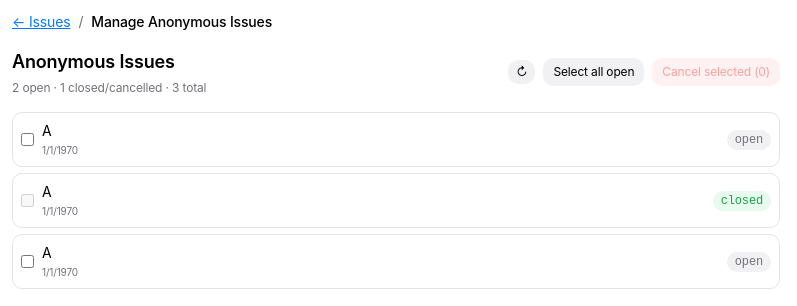
Scenario: AnonymousManagementPanel › Select all open ticks all non-closed checkboxes
Click the button "Select all open" at (594, 72), box [543, 58, 644, 86]
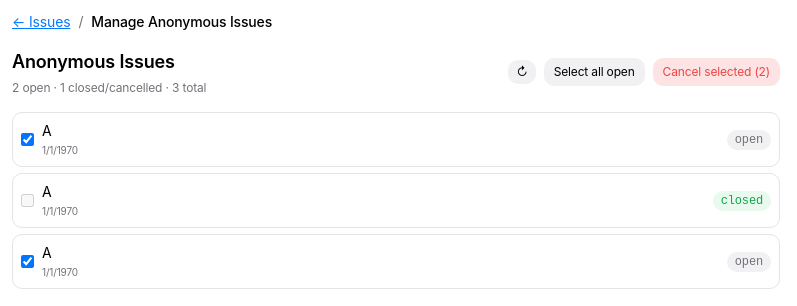
Now the button "Cancel selected (2)" is shown, box [653, 58, 780, 86]
